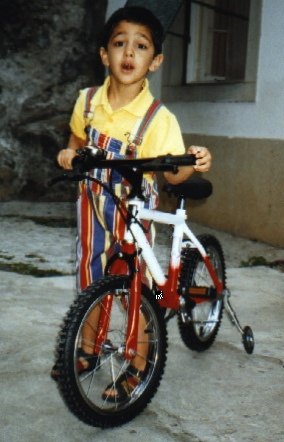car: (53, 152, 257, 431)
person: (52, 7, 214, 404)
